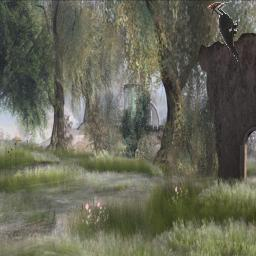Woodpecker: (207, 2, 238, 62)
